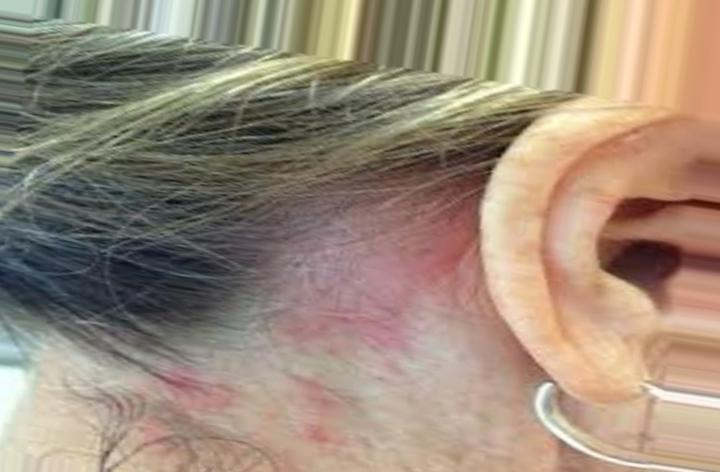Contact Dermatitis: (226, 139, 471, 409)
